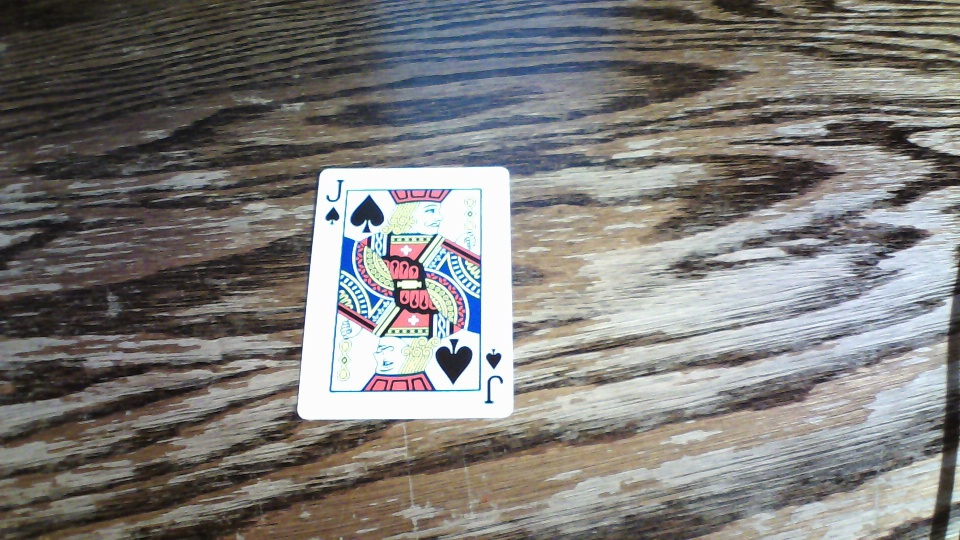jack: (297, 167, 512, 420)
